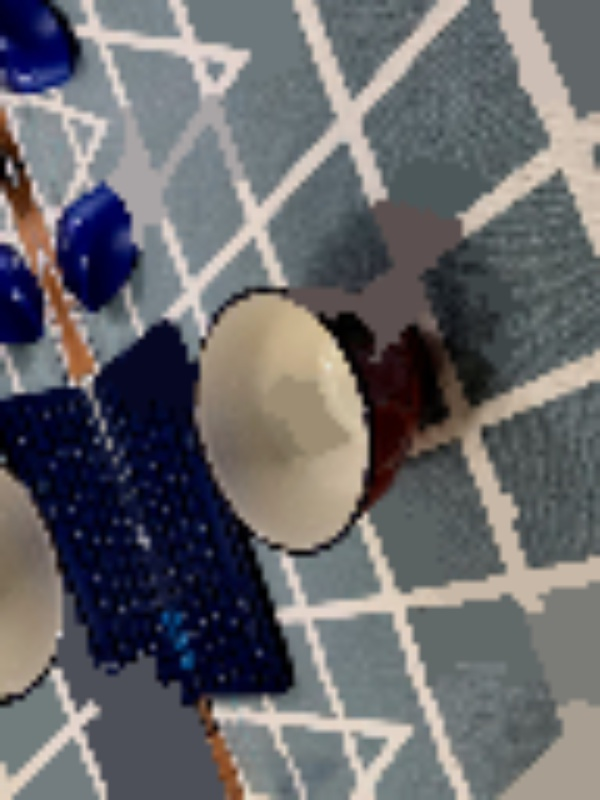bowl_small: (151, 213, 479, 592)
